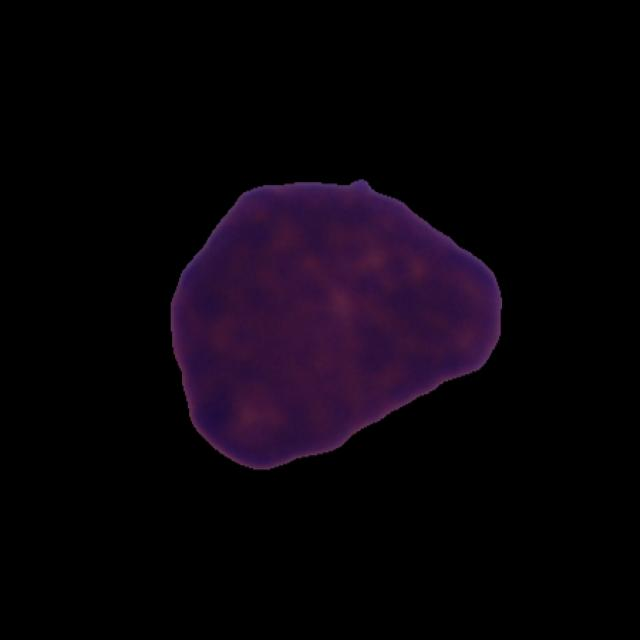ALL Positive Cell: (175, 184, 502, 467)
